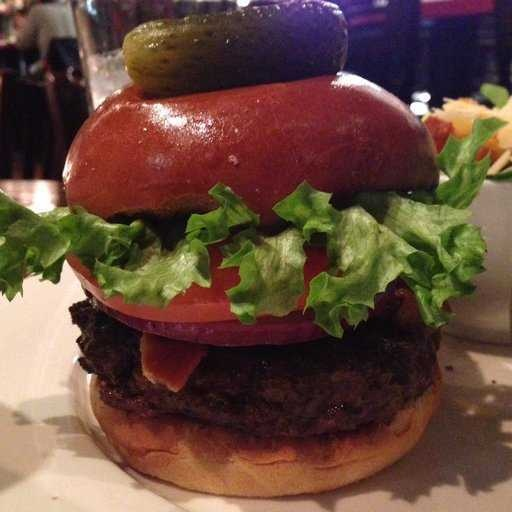hamburger: (61, 12, 489, 474)
